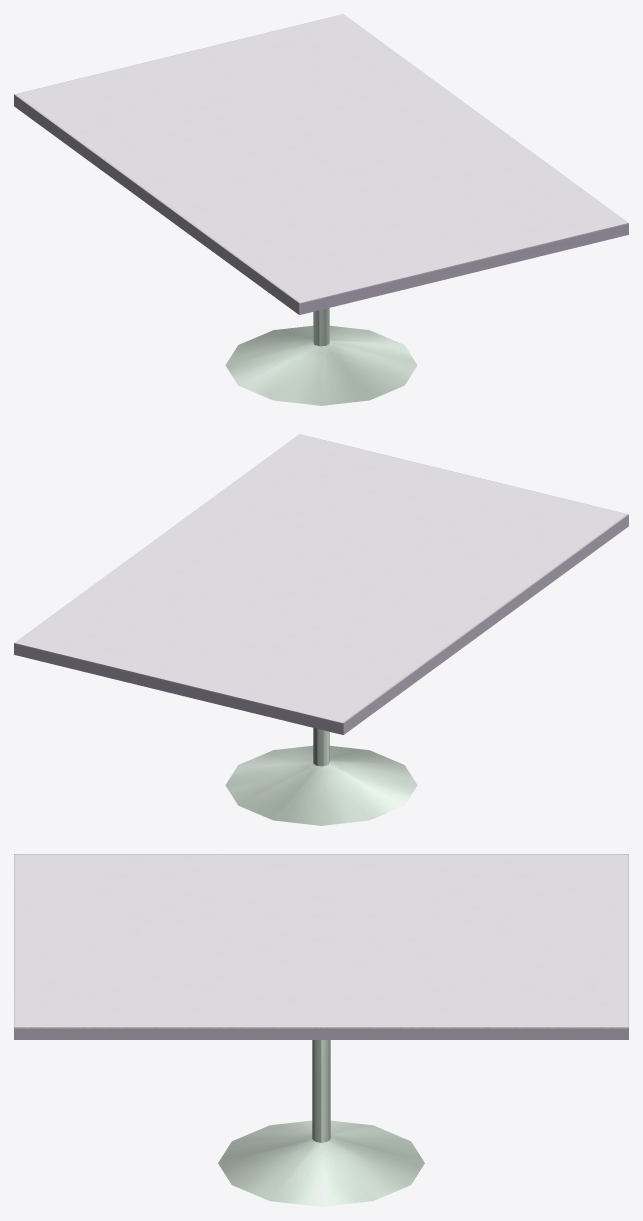
The model's file is my_shoppingmall_01_table_01.glb.
3 views of the same model, one above another, from view 1: azimuth 30°, elevation 25°; view 2: azimuth 150°, elevation 25°; view 3: azimuth 270°, elevation 25° (orthographic). The views are drawn at different scales.
Parts seen in each view (by area): view 1: my_shoppingmall_01_table_01; view 2: my_shoppingmall_01_table_01; view 3: my_shoppingmall_01_table_01.
Boxes of the visible parts, x1,y1,x2,y2 form: my_shoppingmall_01_table_01: (14, 14, 628, 405); my_shoppingmall_01_table_01: (14, 434, 628, 825); my_shoppingmall_01_table_01: (14, 854, 628, 1206).
Bounding box in the file's own units: 0.00781 × 0.00468 × 0.0117.
1 material, 1 textured.
